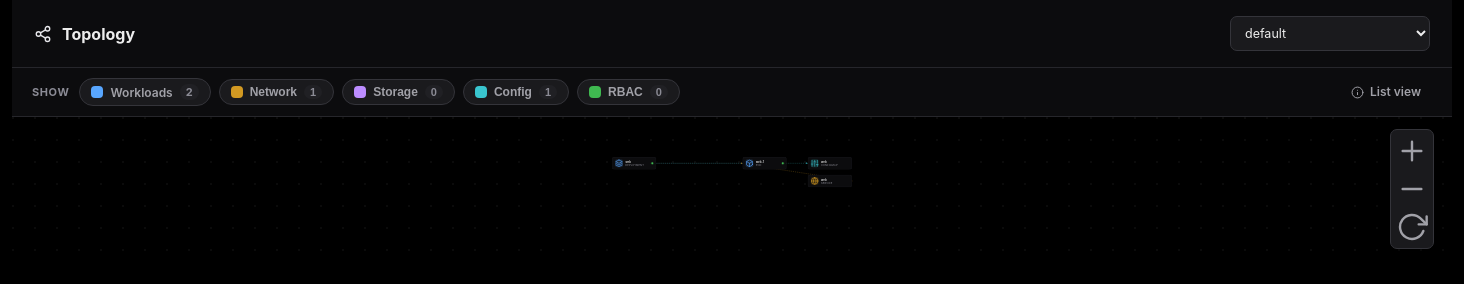
Test: Topology › filter chips are toggle buttons with aria-pressed and a text "off" state
expect the picture named "4 resources, 3 relationships" is shown: met, box [12, 117, 1452, 267]
Click the button "Network 1" at (276, 92), box [219, 79, 334, 105]
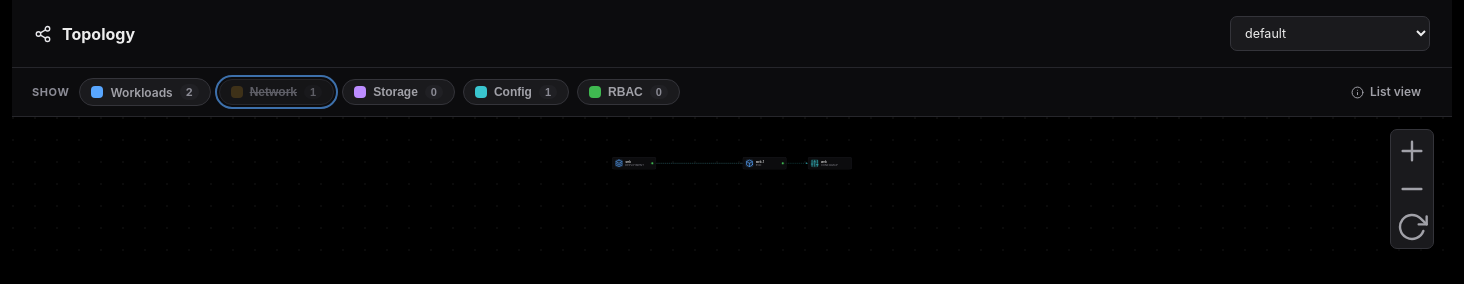
expect the list named "Resource categories" is shown: met, box [12, 68, 1452, 117]
expect the picture named "3 resources, 2 relationships" is shown: met, box [12, 117, 1452, 267]
